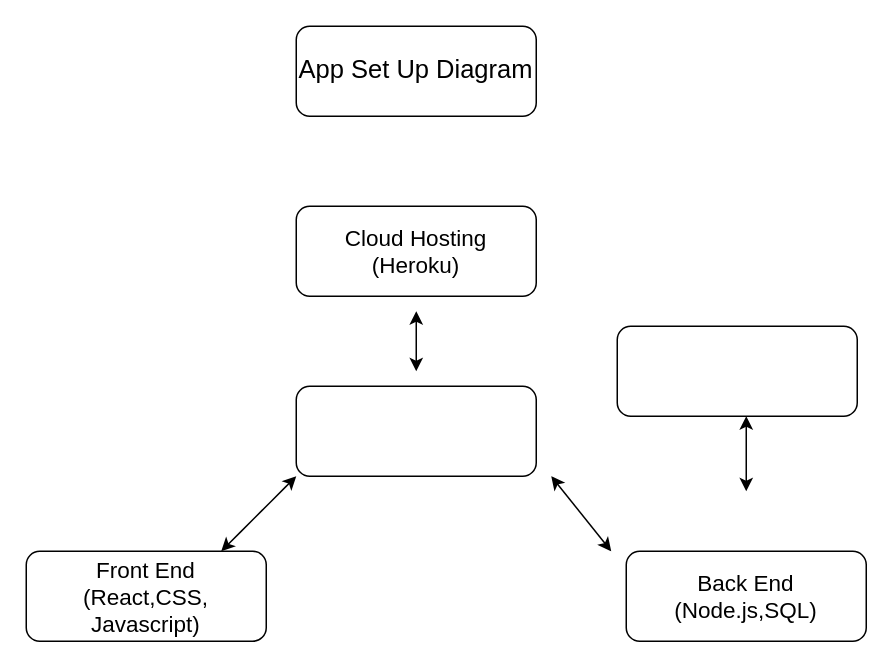
Image size: 893x668. Some labels were removed from this diagram. Here are the shapes that lost their labels. From the top down, the box of each, then its label:
(616, 325, 857, 416): Heroku Postgres (Cloud database)
(295, 385, 536, 476): Server
